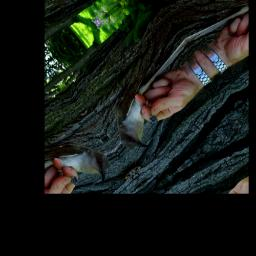Cuckoo: (90, 34, 226, 160)
